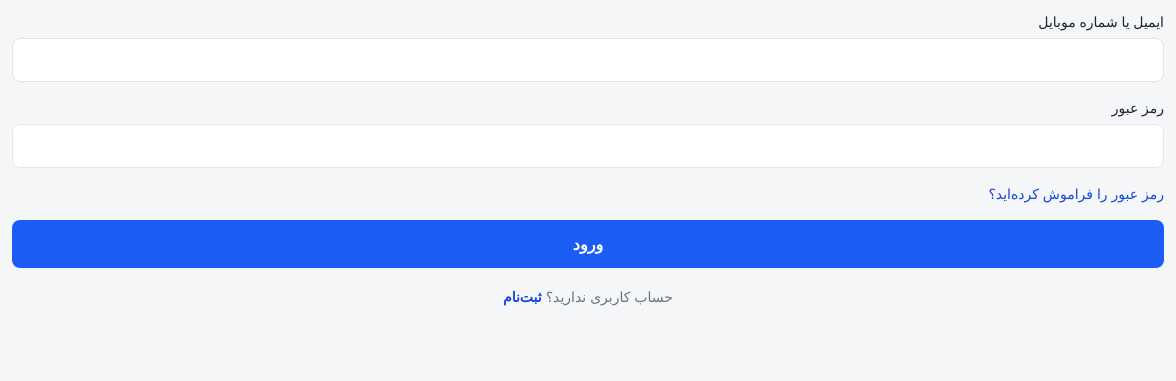
Scenario: LoginForm › validates before submitting
What coordinates should you click on to do the following:
click the button "ورود"
I would click on:
 (588, 244)
Its box is x1=12 y1=220 x2=1164 y2=268.
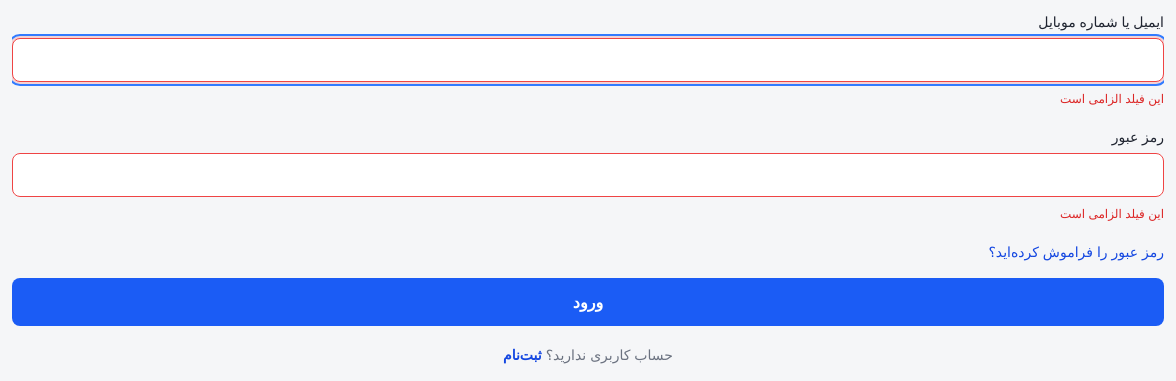
Expected: the number of messages is 2, x1=1060 y1=91 x2=1164 y2=106; x1=1060 y1=206 x2=1164 y2=221
